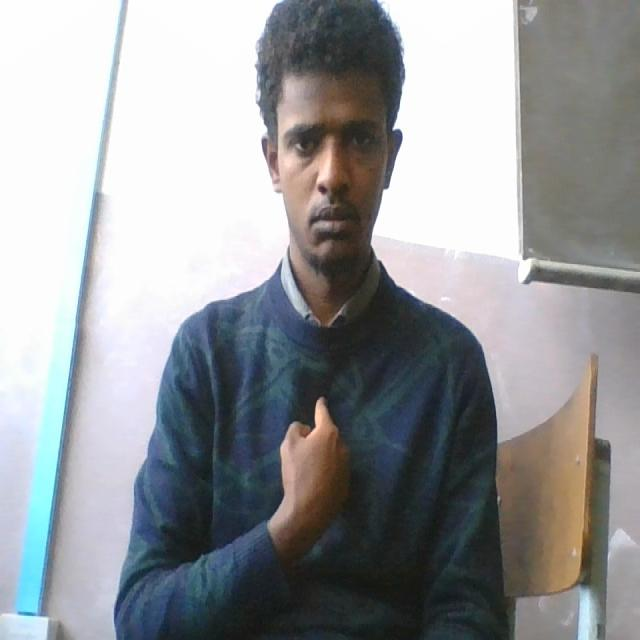ene: (257, 379, 367, 549)
